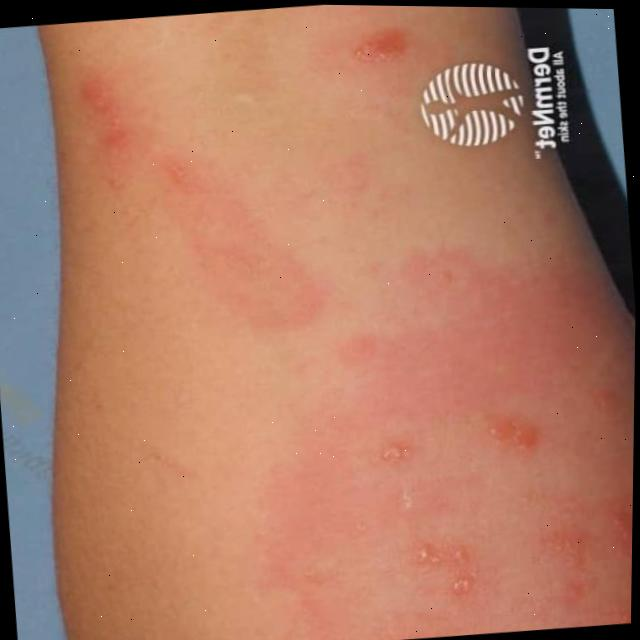Eczema: (83, 52, 639, 640)
